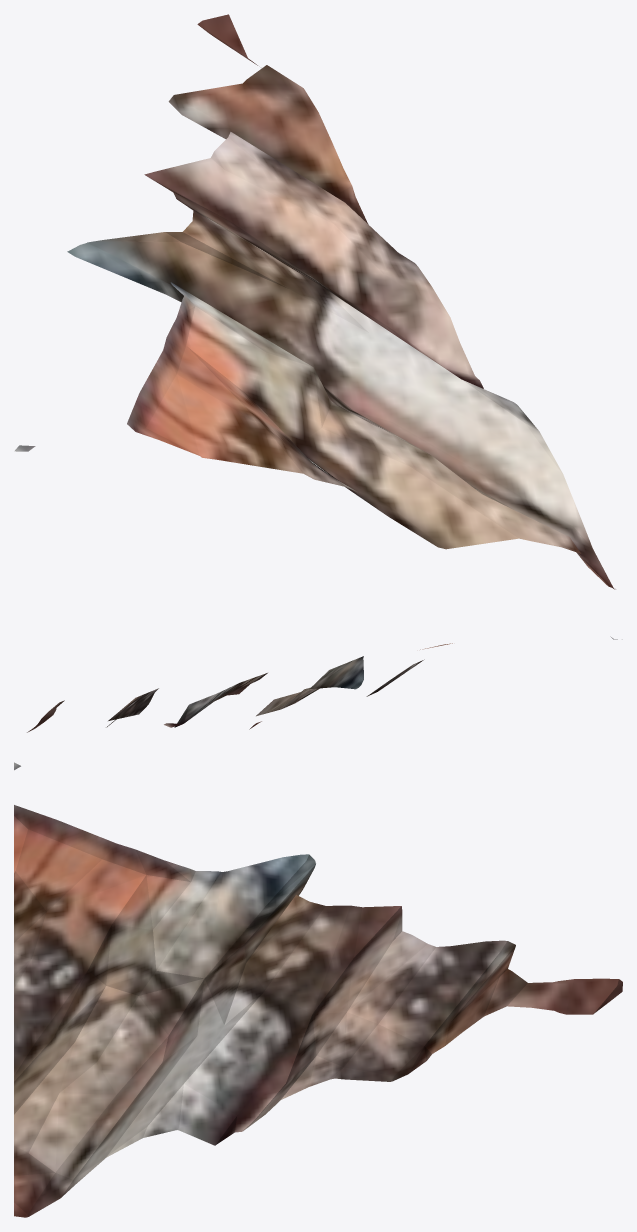
The picture shows the model from 3 angles, top to bottom: view 1: azimuth 30°, elevation 25°; view 2: azimuth 150°, elevation 25°; view 3: azimuth 270°, elevation 25°; orthographic projection. The views are drawn at different scales.
Size of the model in its own units: 0.8121 by 0.373 by 0.9108.
1 material, 1 textured.
